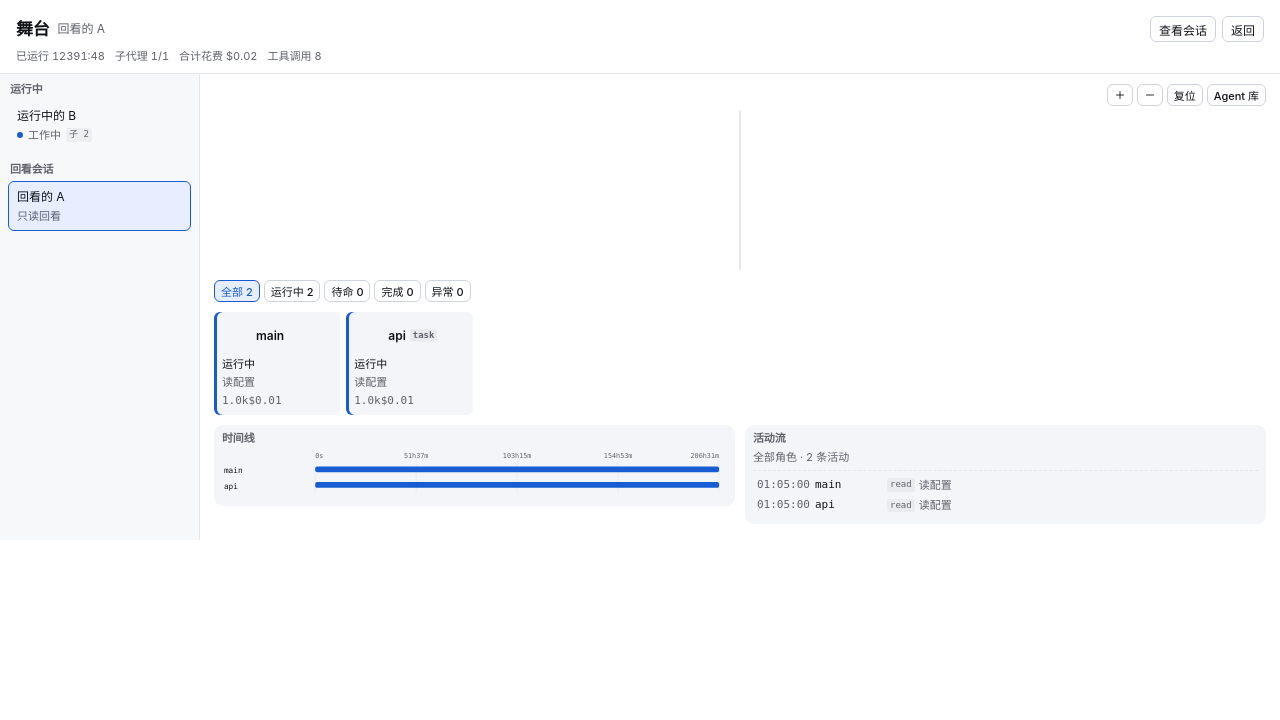
StageView › 同一会话在侧栏被再次点击时舞台仍切换过去
This screenshot has width=1280, height=720.
Check: the element named "角色卡片" is shown, box [214,312,472,415]
# 舞台内又切到别的会话（点左栏运行中的 B），A 仍是侧栏选中行。
Click the button "运行中的 B 工作中 子 2".
click(100, 125)  # box [8,100,191,150]
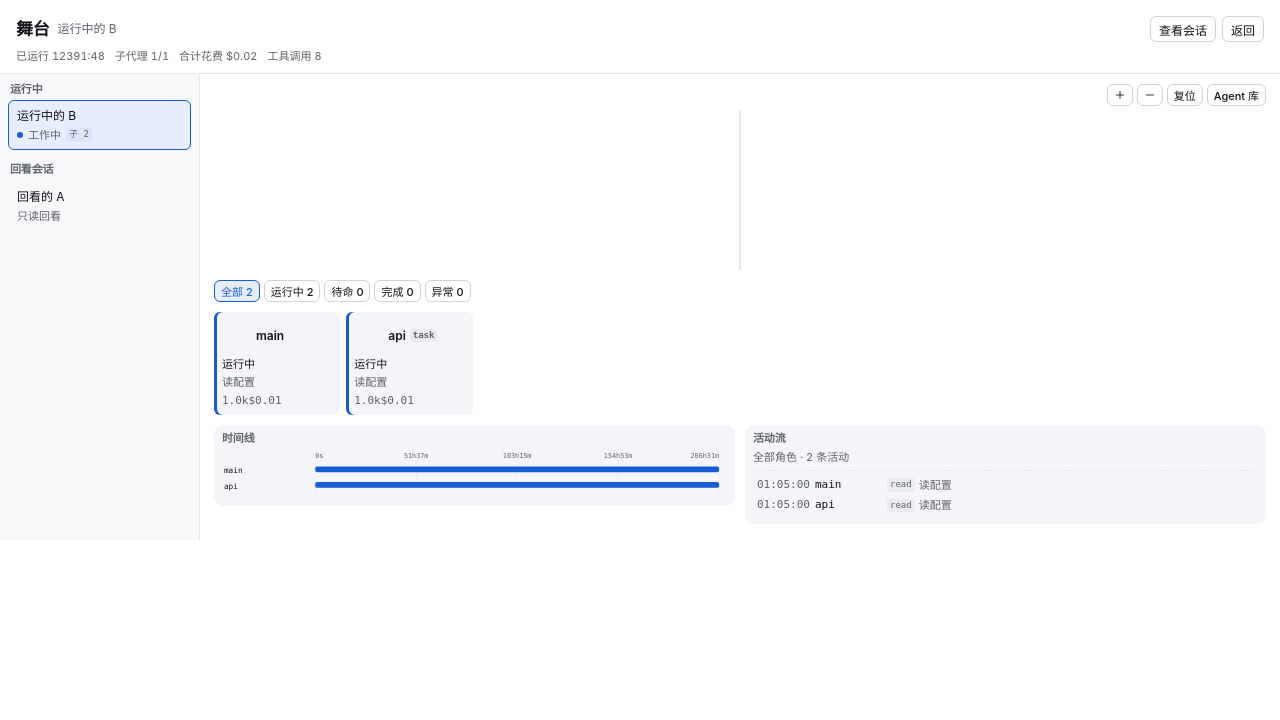
Check: the text with class "stage-head-title" reads "运行中的 B", box [58,21,117,36]
